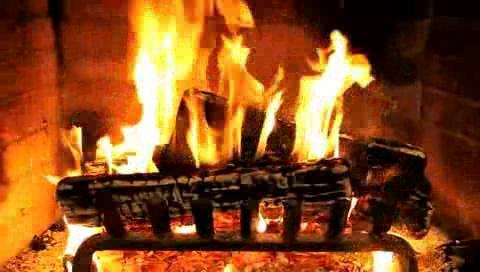fire: (101, 4, 356, 162)
